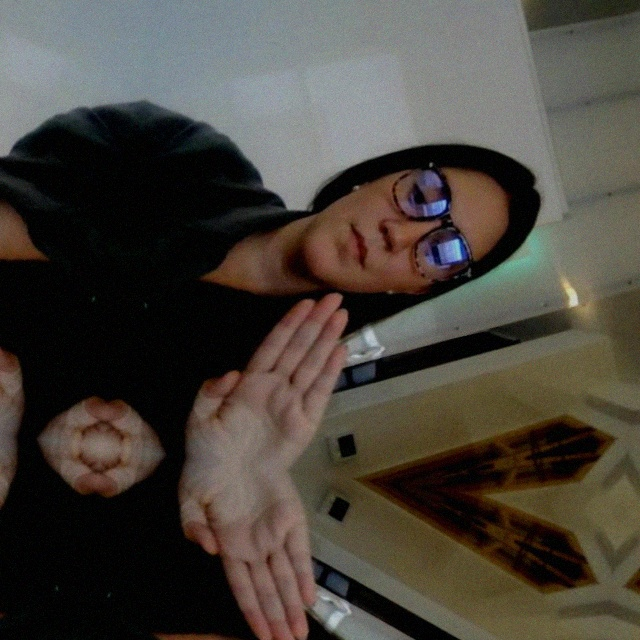Paper: (0, 192, 89, 442)
